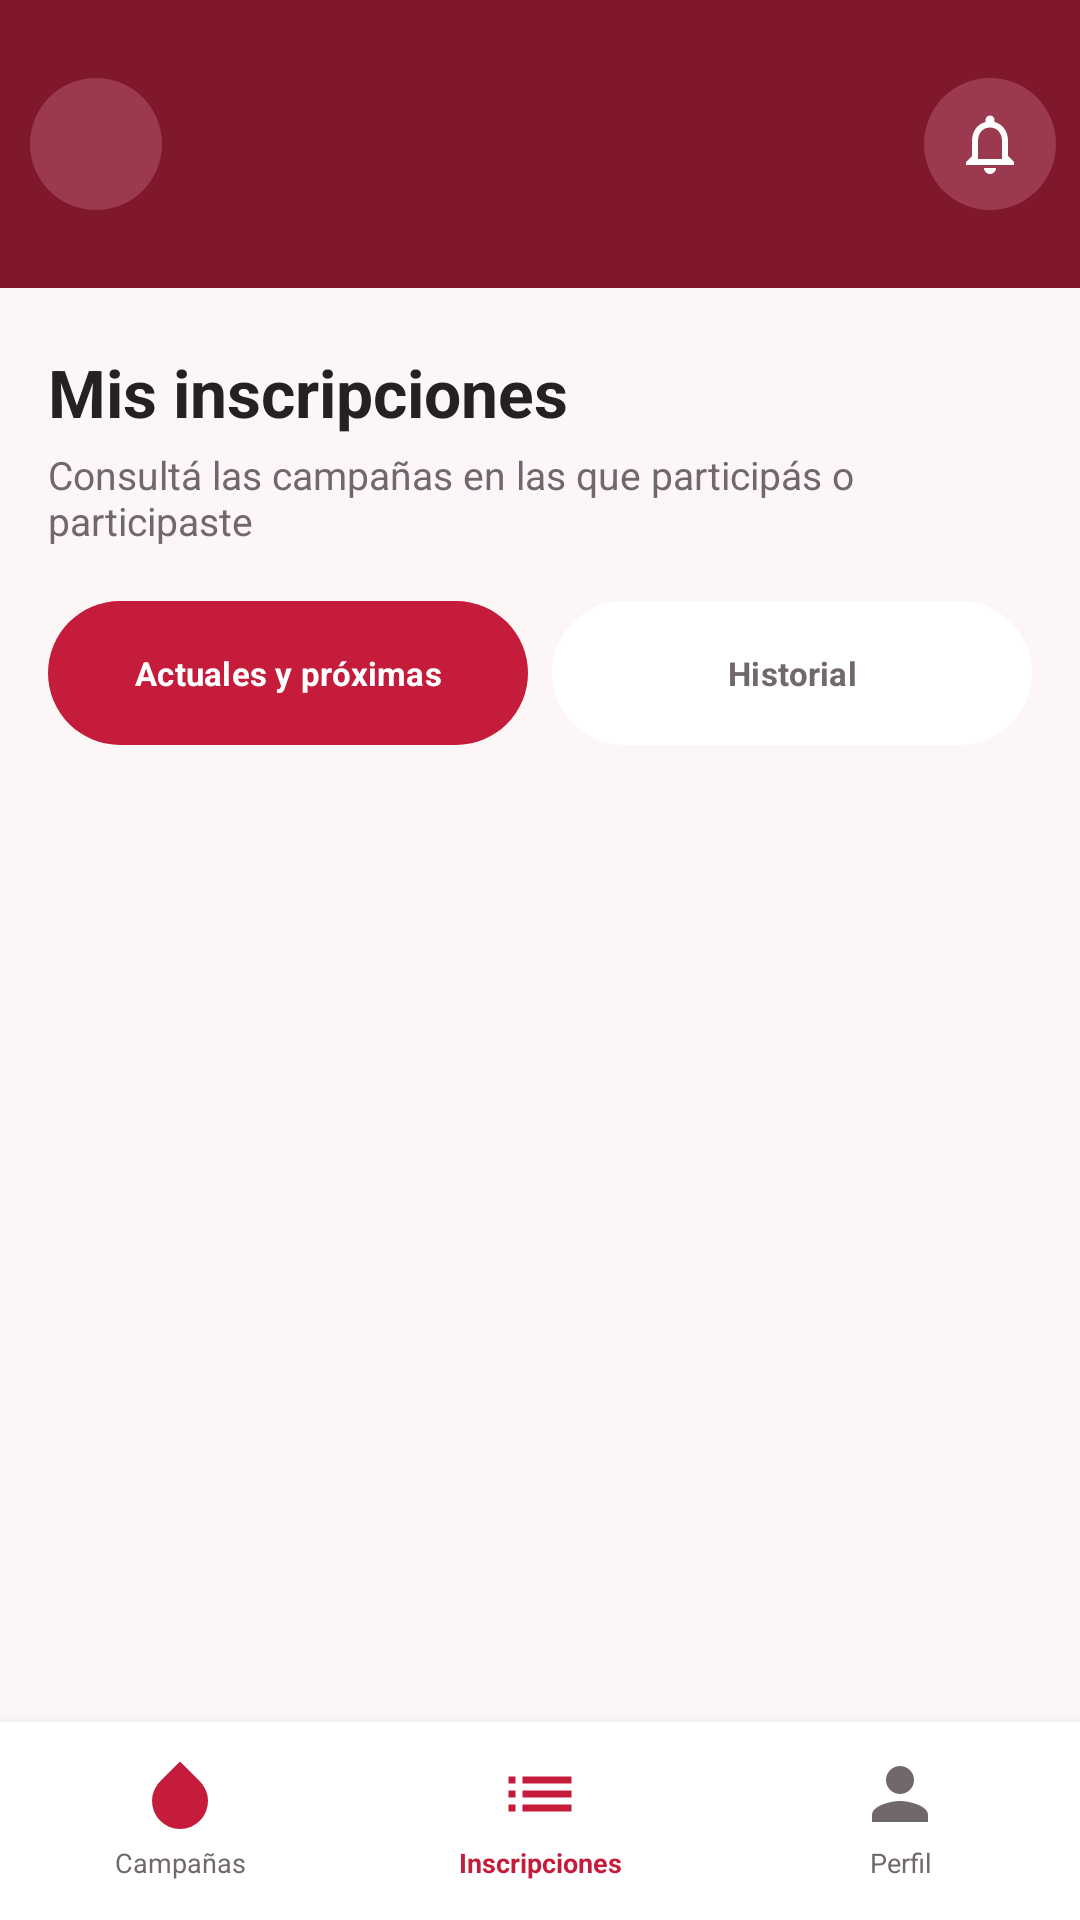

Named icons in this screenshot (1080px×1920px) and their centers, (x=x, y=y):
Notificaciones: (x=990, y=144)
